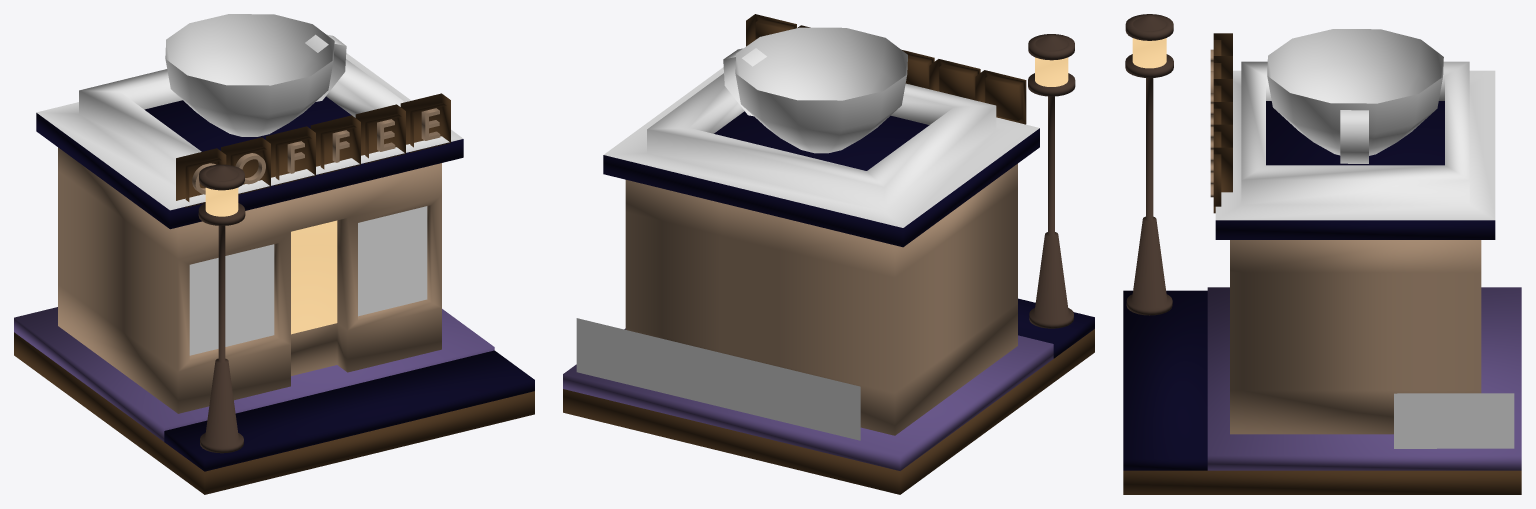
3 renders of one model, left to right at view 1: azimuth 30°, elevation 25°; view 2: azimuth 150°, elevation 25°; view 3: azimuth 270°, elevation 25°, orthographic. The views are drawn at different scales.
Visible parts, largest first — view 1: Plane.004, Plane.001, Circle, Plane.006, Plane, Plane.002, Plane.005, Plane.008, Plane.007, Circle.002, Plane.014, Plane.013 (+5 smaller); view 2: Plane.004, Plane.006, Circle, Plane.010, Plane.002, Plane, Plane.005, Circle.002, Plane.011, Plane.001, Plane.012, Plane.016 (+2 smaller); view 3: Plane.004, Plane.006, Plane.002, Circle, Plane.001, Plane.005, Plane, Plane.010, Circle.002, Circle.001, Plane.016, Plane.015 (+4 smaller).
Boxes of the visible parts, box(x1,y1,x2,y2) form: Plane.004: box(58, 147, 441, 413); Plane.001: box(164, 350, 534, 471); Circle: box(165, 14, 334, 136); Plane.006: box(36, 53, 463, 210); Plane: box(14, 332, 534, 494); Plane.002: box(14, 307, 494, 441); Plane.005: box(36, 96, 463, 229); Plane.008: box(189, 244, 274, 355); Plane.007: box(358, 206, 427, 316); Circle.002: box(198, 164, 245, 453); Plane.014: box(310, 115, 360, 174); Plane.013: box(266, 126, 315, 185); Plane.004: box(625, 163, 1017, 435); Plane.006: box(604, 67, 1039, 227); Circle: box(735, 27, 907, 153); Plane.010: box(576, 318, 860, 440); Plane.002: box(563, 328, 1053, 470); Plane: box(563, 329, 1094, 494); Plane.005: box(603, 111, 1039, 247); Circle.002: box(1028, 34, 1075, 328); Plane.011: box(975, 70, 1026, 124); Plane.001: box(1018, 298, 1094, 358); Plane.012: box(929, 59, 980, 100); Plane.016: box(746, 14, 796, 46); Plane.004: box(1230, 240, 1481, 434); Plane.006: box(1215, 61, 1495, 220); Plane.002: box(1207, 287, 1521, 470); Circle: box(1267, 29, 1443, 155); Plane.001: box(1123, 290, 1207, 470); Plane.005: box(1215, 101, 1495, 239); Plane: box(1123, 470, 1521, 494); Plane.010: box(1394, 393, 1514, 448); Circle.002: box(1125, 14, 1173, 315); Circle.001: box(1340, 110, 1368, 163); Plane.016: box(1213, 147, 1232, 213); Plane.015: box(1213, 124, 1232, 147).
Size of what is drawn, in the model's own units: 15.2 by 14.32 by 15.2.
